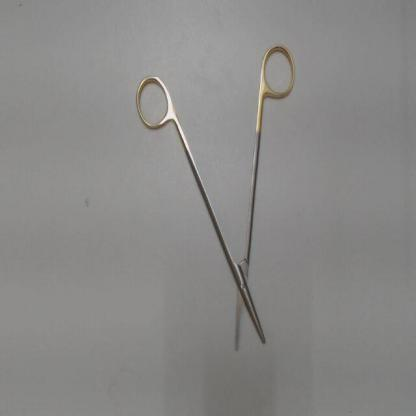7 Metzenbaum Scissors: (133, 36, 300, 358)
